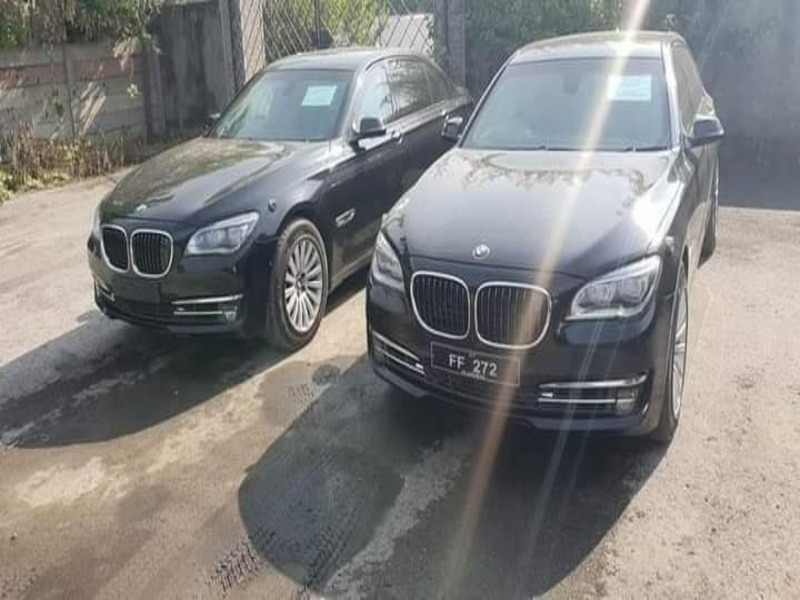License Plate: (426, 338, 523, 390)
